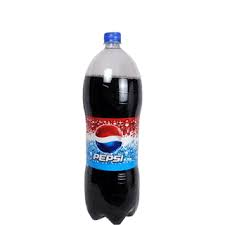bottle: (82, 30, 144, 222)
pepsi: (93, 125, 125, 153), (91, 153, 127, 164)
plastic: (82, 31, 145, 222)
